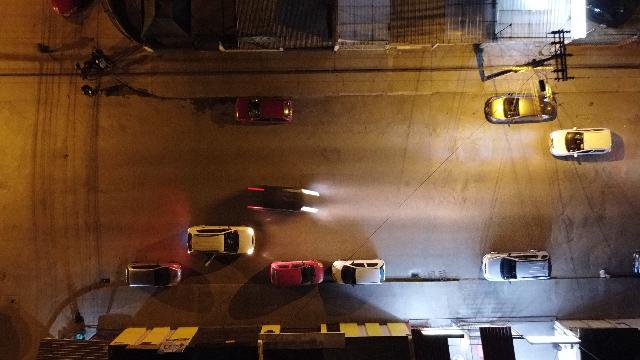Vehiculo: (480, 248, 554, 284), (483, 92, 559, 124), (247, 185, 320, 213), (187, 225, 255, 255), (550, 127, 612, 157), (235, 97, 292, 124), (270, 260, 324, 286), (332, 258, 386, 284), (126, 262, 182, 286)
